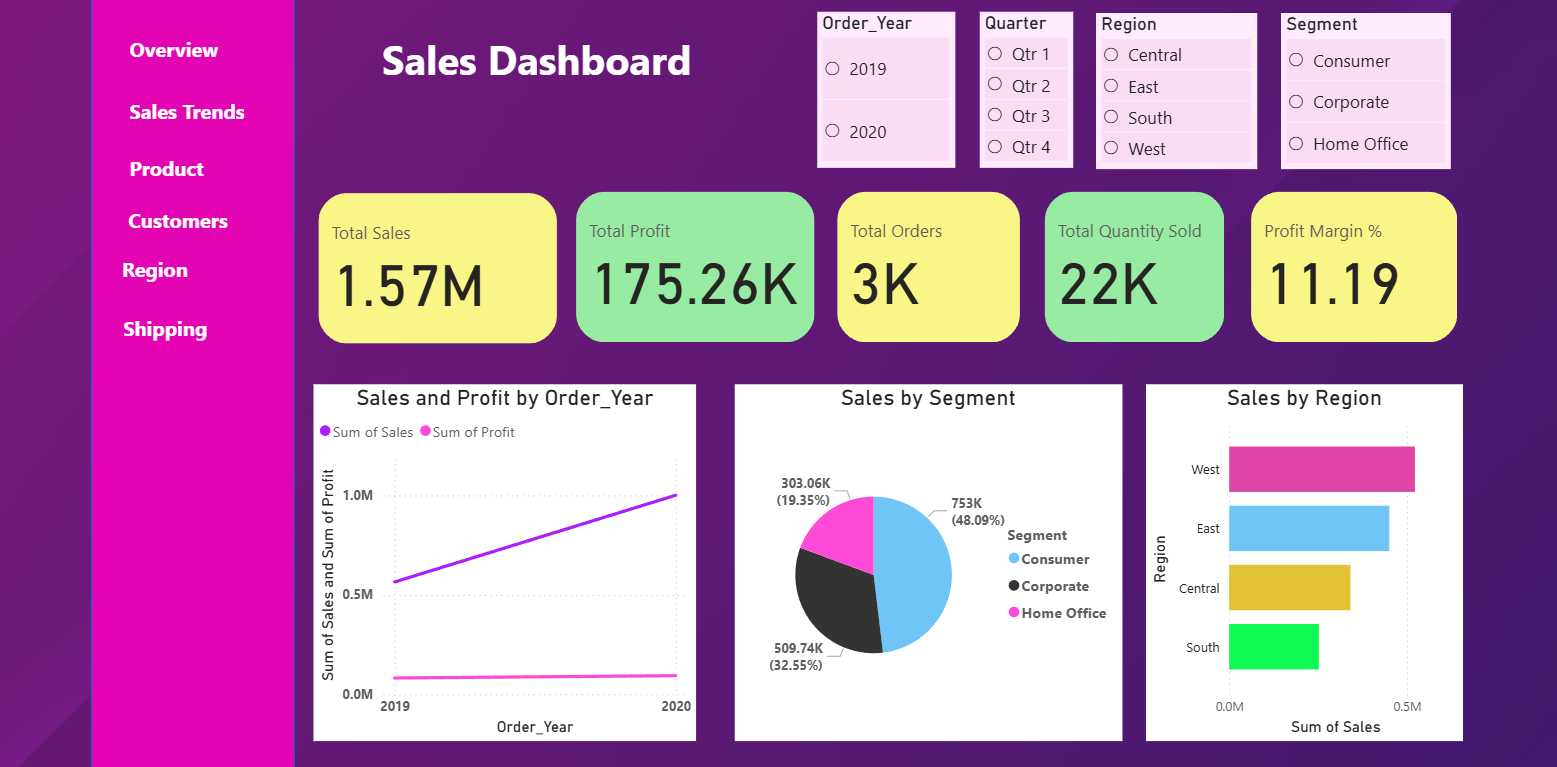

Layout of this report page (visuals, bound fields, positions):
{"tool":"powerbi","page":{"name":"Page 1","canvas":[1280,720],"ordinal":0},"visuals":[{"type":"textbox","box":[281.2,55,451.2,73.8],"z":0},{"type":"lineChart","title":" Sales and Profit by Order_Year","fields":{"Y":["Sum(Sheet1.Sales)","Sum(Sheet1.Profit)"],"Category":["Sheet1.Order_Year"]},"box":[305,318.8,287.5,332.5],"z":1000},{"type":"clusteredBarChart","title":"Sales by Region","fields":{"Y":["Sum(Sheet1.Sales)"],"Category":["Sheet1.Region"]},"box":[920,318.8,296.2,332.5],"z":2000},{"type":"pieChart","title":"Sales by Segment","fields":{"Category":["Sheet1.Segment"],"Y":["Sum(Sheet1.Sales)"]},"box":[612.5,320,296.2,332.5],"z":3000},{"type":"cardVisual","title":"Total Profit","fields":{"Data":["Sheet1.Total Sales"]},"box":[305,172.5,172.5,118.8],"z":4000},{"type":"cardVisual","fields":{"Data":["Sheet1.Total Quantity Sold"]},"box":[862.5,171.2,151.2,110],"z":5000},{"type":"cardVisual","fields":{"Data":["Sheet1.Profit Margin %"]},"box":[1045,178.8,156.2,95],"z":6000},{"type":"slicer","fields":{"Values":["Sheet1.Order_Year"]},"box":[850,51.2,126.2,82.5],"z":7000},{"type":"cardVisual","title":"Total Profit","fields":{"Data":["Sheet1.Total Profit"]},"box":[477.5,171.2,193.8,110],"z":8000},{"type":"cardVisual","fields":{"Data":["Sheet1.Total Orders"]},"box":[696.2,171.2,153.8,110],"z":9000},{"type":"slicer","fields":{"Values":["Sheet1.Region"]},"box":[976.2,51.2,112.5,83.8],"z":10000},{"type":"slicer","fields":{"Values":["Sheet1.Segment"]},"box":[1088.8,50,112.5,83.8],"z":11000},{"type":"actionButton","box":[133.8,408.8,147.5,42.5],"z":12000},{"type":"actionButton","box":[111.2,261.2,146.2,40],"z":13000},{"type":"actionButton","box":[122.5,476.2,146.2,40],"z":14000},{"type":"actionButton","box":[121.2,408.8,147.5,40],"z":15000},{"type":"actionButton","box":[121.2,547.5,147.5,40],"z":16000},{"type":"actionButton","box":[121.2,338.8,147.5,41.2],"z":17000},{"type":"image","box":[82.5,42.5,186.2,183.8],"z":18000}]}

Visuals, with their boxes on the page's 1280x720 design canvas (x1, y1, x2, y2). These are canvas units, not pixel positions in the 1557x767 screenshot, which may show the page scaled, cropped or inside an application window:
textbox: box(281, 55, 732, 129)
" Sales and Profit by Order_Year" lineChart: box(305, 319, 592, 651)
"Sales by Region" clusteredBarChart: box(920, 319, 1216, 651)
"Sales by Segment" pieChart: box(612, 320, 909, 652)
"Total Profit" cardVisual: box(305, 172, 478, 291)
cardVisual - Sheet1.Total Quantity Sold: box(862, 171, 1014, 281)
cardVisual - Sheet1.Profit Margin %: box(1045, 179, 1201, 274)
slicer - Sheet1.Order_Year: box(850, 51, 976, 134)
"Total Profit" cardVisual: box(478, 171, 671, 281)
cardVisual - Sheet1.Total Orders: box(696, 171, 850, 281)
slicer - Sheet1.Region: box(976, 51, 1089, 135)
slicer - Sheet1.Segment: box(1089, 50, 1201, 134)
actionButton: box(134, 409, 281, 451)
actionButton: box(111, 261, 257, 301)
actionButton: box(122, 476, 269, 516)
actionButton: box(121, 409, 269, 449)
actionButton: box(121, 548, 269, 588)
actionButton: box(121, 339, 269, 380)
image: box(82, 42, 269, 226)
